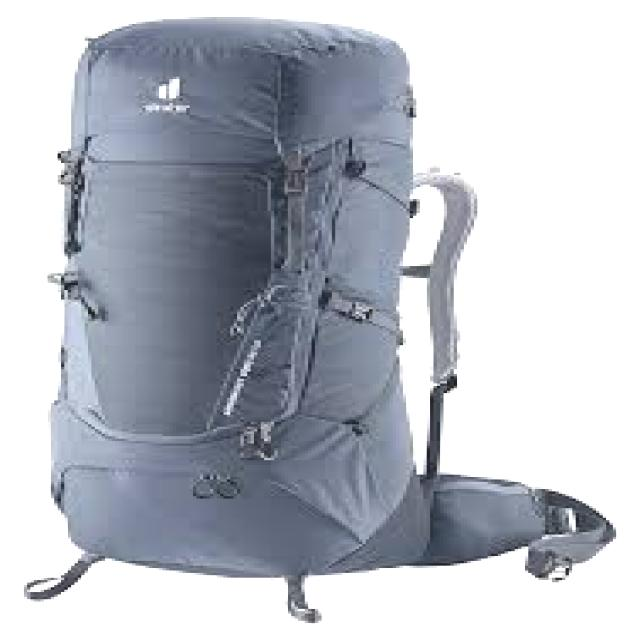backpack: (22, 16, 618, 622)
